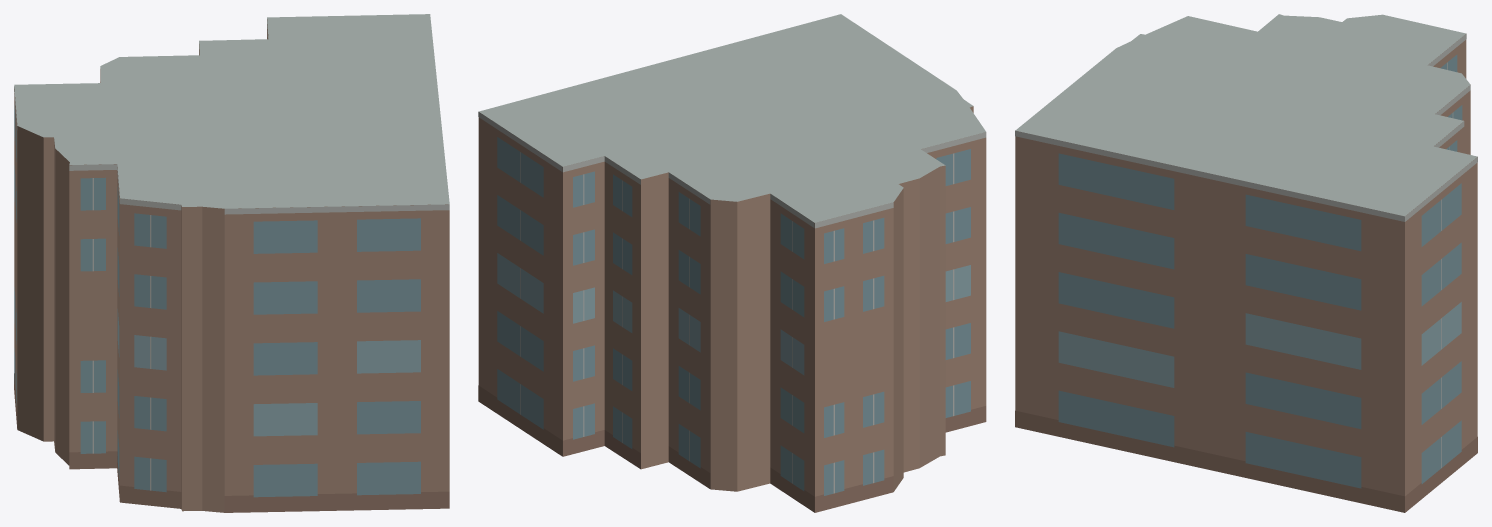
Rendered from survey-upis-32924421.glb.
3 views of the same model, side by side, from view 1: azimuth 30°, elevation 25°; view 2: azimuth 150°, elevation 25°; view 3: azimuth 270°, elevation 25° (orthographic). The views are drawn at different scales.
Visible parts, largest first — view 1: survey-upis-32924421.tmp; view 2: survey-upis-32924421.tmp; view 3: survey-upis-32924421.tmp.
Part boxes in pixels (x1=…): survey-upis-32924421.tmp: x1=14, y1=14, x2=449, y2=512; survey-upis-32924421.tmp: x1=478, y1=14, x2=986, y2=512; survey-upis-32924421.tmp: x1=1015, y1=14, x2=1477, y2=512.
Size of the model in its own units: 18.76 by 12.81 by 18.12.
